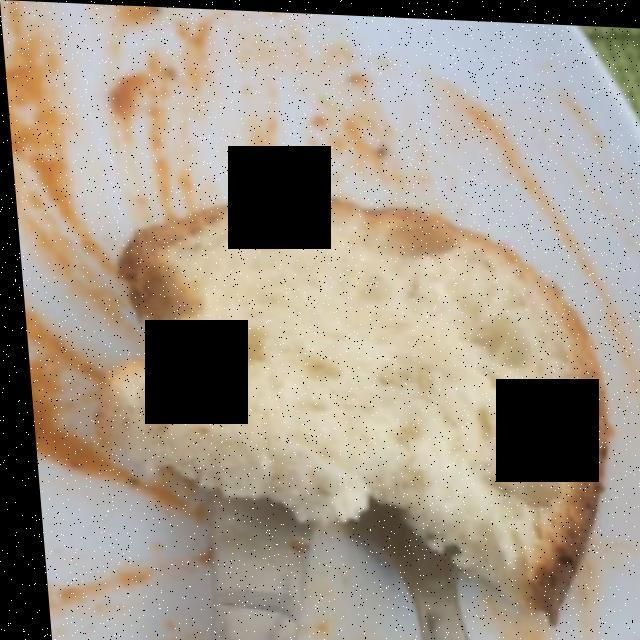bread: (48, 195, 603, 598)
